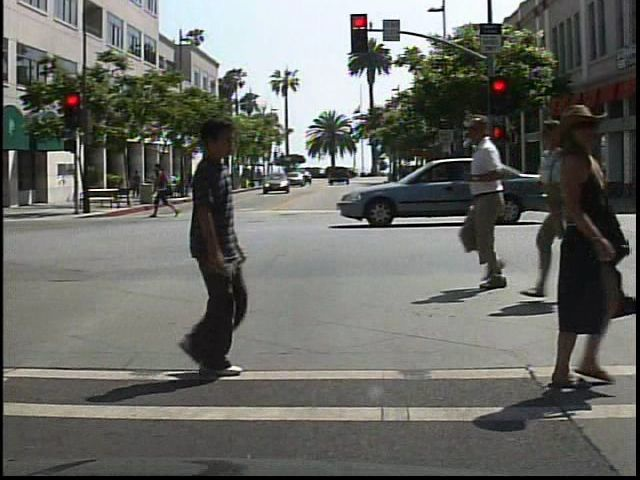person: (153, 111, 265, 380), (519, 102, 621, 392), (533, 115, 614, 303), (459, 112, 537, 297), (150, 158, 184, 220), (131, 166, 146, 200)
